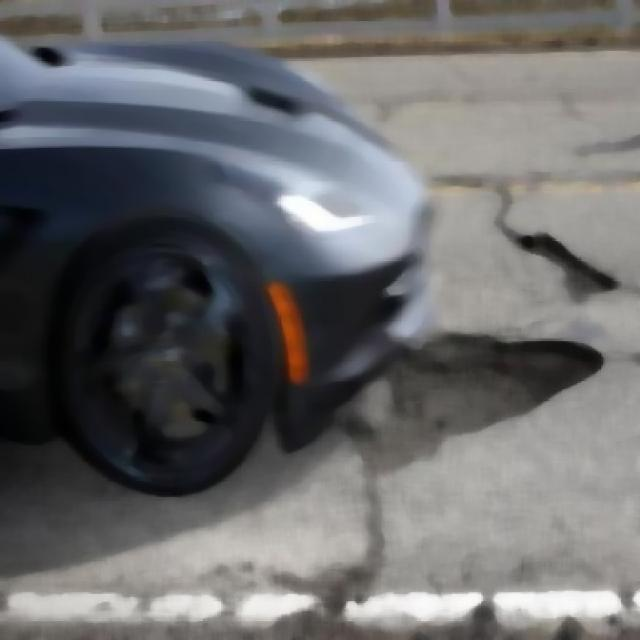Pothole: (351, 316, 594, 446)
